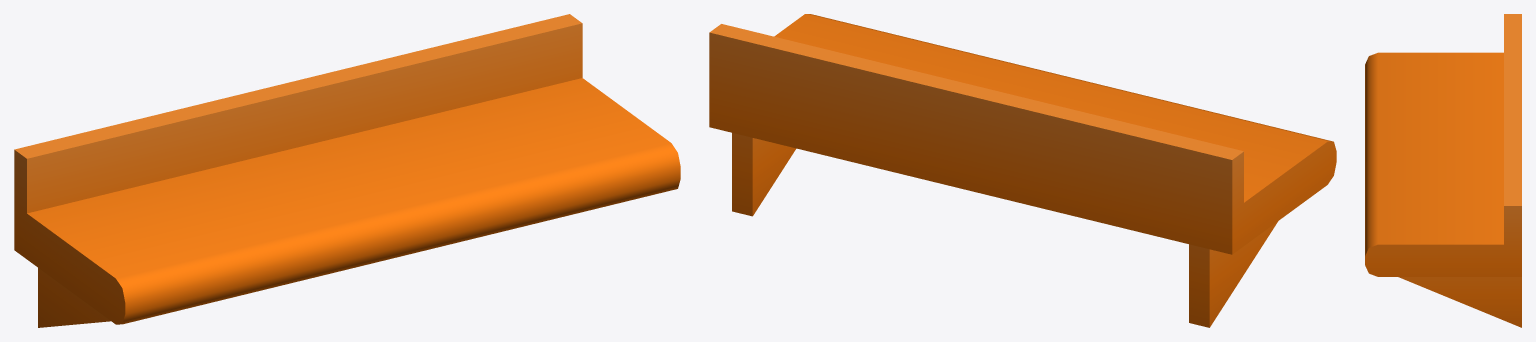
Rendered from Wall_Rack_01_C03.fbx.
The picture shows the model from 3 angles, left to right: view 1: azimuth 30°, elevation 25°; view 2: azimuth 150°, elevation 25°; view 3: azimuth 270°, elevation 25°; orthographic projection. The views are drawn at different scales.
Visible parts, largest first — view 1: Wall_Rack_01_C03; view 2: Wall_Rack_01_C03; view 3: Wall_Rack_01_C03.
Boxes of the visible parts, x1,y1,x2,y2 form: Wall_Rack_01_C03: [14, 14, 680, 327]; Wall_Rack_01_C03: [709, 14, 1336, 327]; Wall_Rack_01_C03: [1365, 14, 1521, 327].
Size of the model in its own units: 100 by 31.7 by 34.58.
